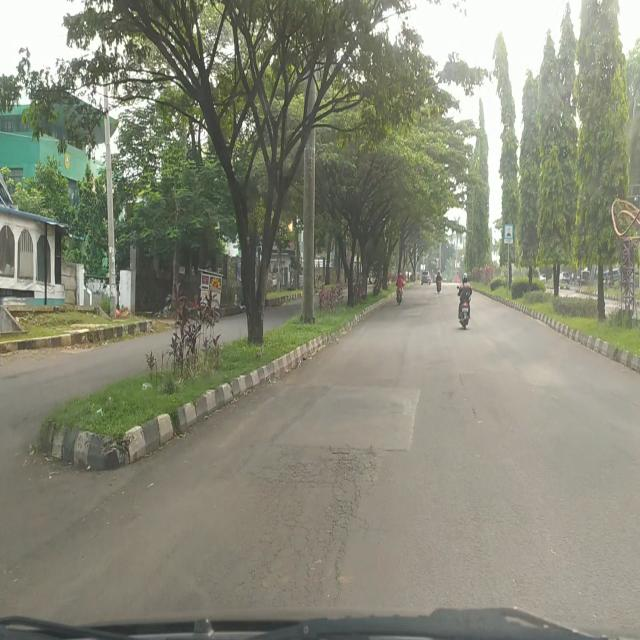Drain Hole: (231, 449, 379, 611)
